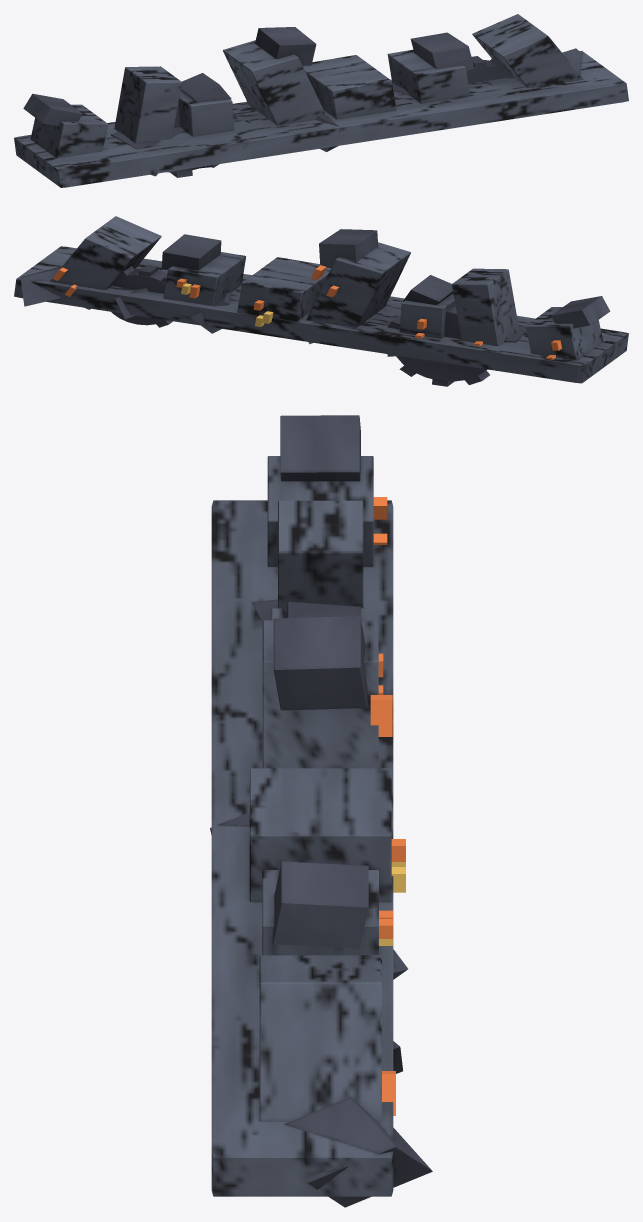
File: BG_Ridge_Collapse.obj
3 views of the same model, one above another, from view 1: azimuth 30°, elevation 25°; view 2: azimuth 150°, elevation 25°; view 3: azimuth 270°, elevation 25° (orthographic). The views are drawn at different scales.
Parts seen in each view (by area): view 1: BG_Ridge_Collapse; view 2: BG_Ridge_Collapse; view 3: BG_Ridge_Collapse.
Boxes of the visible parts, x1=… form: BG_Ridge_Collapse: x1=14, y1=14, x2=628, y2=187; BG_Ridge_Collapse: x1=14, y1=216, x2=628, y2=386; BG_Ridge_Collapse: x1=210, y1=415, x2=432, y2=1207.
Bounding box in the file's own units: 1 × 0.2299 × 0.1684.
1 material, 1 textured.
